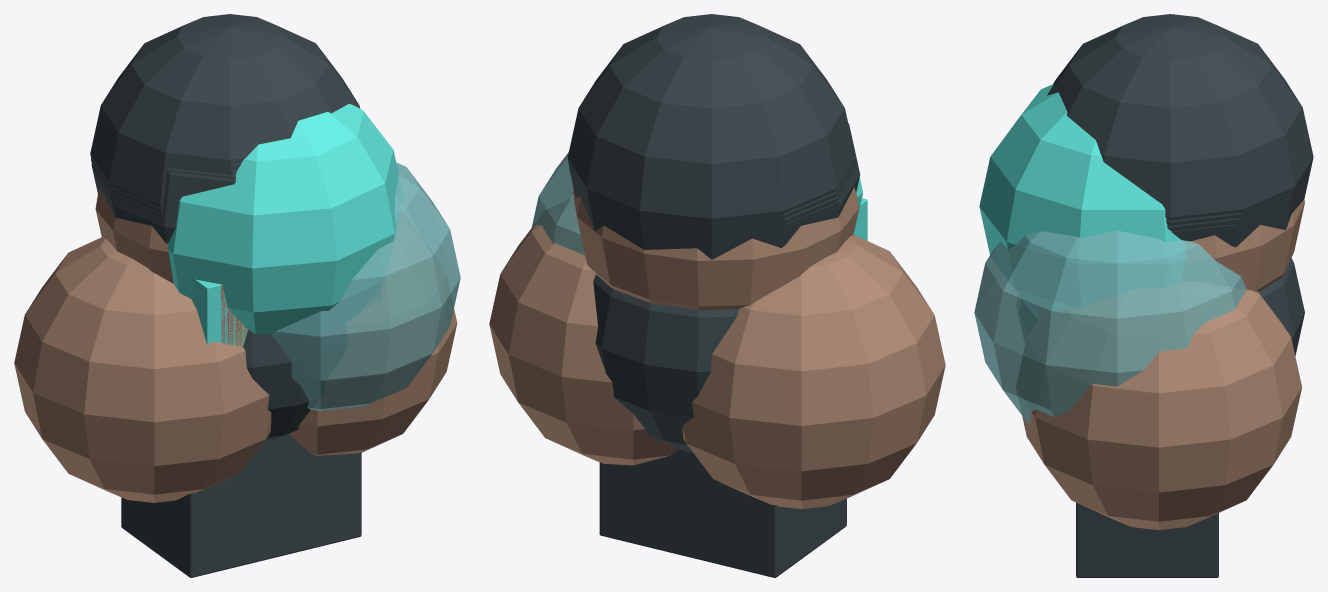
Rendered from Keeper_2.fbx.
3 renders of one model, left to right at view 1: azimuth 30°, elevation 25°; view 2: azimuth 150°, elevation 25°; view 3: azimuth 270°, elevation 25°, orthographic. The views are drawn at different scales.
Visible parts, largest first — view 1: RightHandMesh, IntentEye, Hair_4, Lens_0_Glass, Lens_1_Glass, LeftHandMesh, RightFootMesh, FieldCoat, LeftFootMesh, HeadMesh, Hair_0, RulingPlate_0 (+2 smaller); view 2: Hair_4, RightHandMesh, LeftHandMesh, HeadMesh, FieldCoat, RightFootMesh, LeftFootMesh, Lens_0_Glass, Lens_1_Glass, Hair_2, Hair_3, Hair_0; view 3: LeftHandMesh, Hair_4, Lens_0_Glass, Lens_1_Glass, IntentEye, LeftFootMesh, HeadMesh, FieldCoat, Hair_2, Hair_3, Hair_0.
Boxes of the visible parts, box(x1,y1,x2,y2) form: RightHandMesh: box(14, 237, 271, 502); IntentEye: box(167, 103, 402, 335); Hair_4: box(90, 14, 359, 206); Lens_0_Glass: box(271, 162, 460, 411); Lens_1_Glass: box(272, 163, 460, 410); LeftHandMesh: box(289, 212, 457, 455); RightFootMesh: box(121, 434, 309, 577); FieldCoat: box(243, 322, 347, 439); LeftFootMesh: box(242, 452, 361, 565); HeadMesh: box(95, 188, 173, 283); Hair_0: box(94, 172, 235, 243); RulingPlate_0: box(191, 279, 247, 346); Hair_4: box(567, 14, 855, 259); RightHandMesh: box(682, 234, 945, 508); LeftHandMesh: box(489, 198, 678, 465); HeadMesh: box(573, 187, 858, 310); FieldCoat: box(593, 274, 738, 452); RightFootMesh: box(652, 449, 846, 577); LeftFootMesh: box(599, 460, 721, 563); Lens_0_Glass: box(531, 152, 584, 255); Lens_1_Glass: box(531, 154, 584, 254); Hair_2: box(569, 163, 857, 259); Hair_3: box(568, 159, 856, 259); Hair_0: box(786, 123, 860, 243); LeftHandMesh: box(1016, 282, 1301, 529); Hair_4: box(1047, 14, 1313, 229); Lens_0_Glass: box(974, 230, 1246, 424); Lens_1_Glass: box(974, 231, 1246, 424); IntentEye: box(979, 84, 1185, 318); LeftFootMesh: box(1076, 502, 1218, 577); HeadMesh: box(1183, 200, 1304, 291); FieldCoat: box(1019, 258, 1304, 355); Hair_2: box(1167, 197, 1291, 247); Hair_3: box(1166, 192, 1292, 229); Hair_0: box(1176, 228, 1233, 245).
Size of the model in its own units: 3.35 by 3.92 by 2.37.
